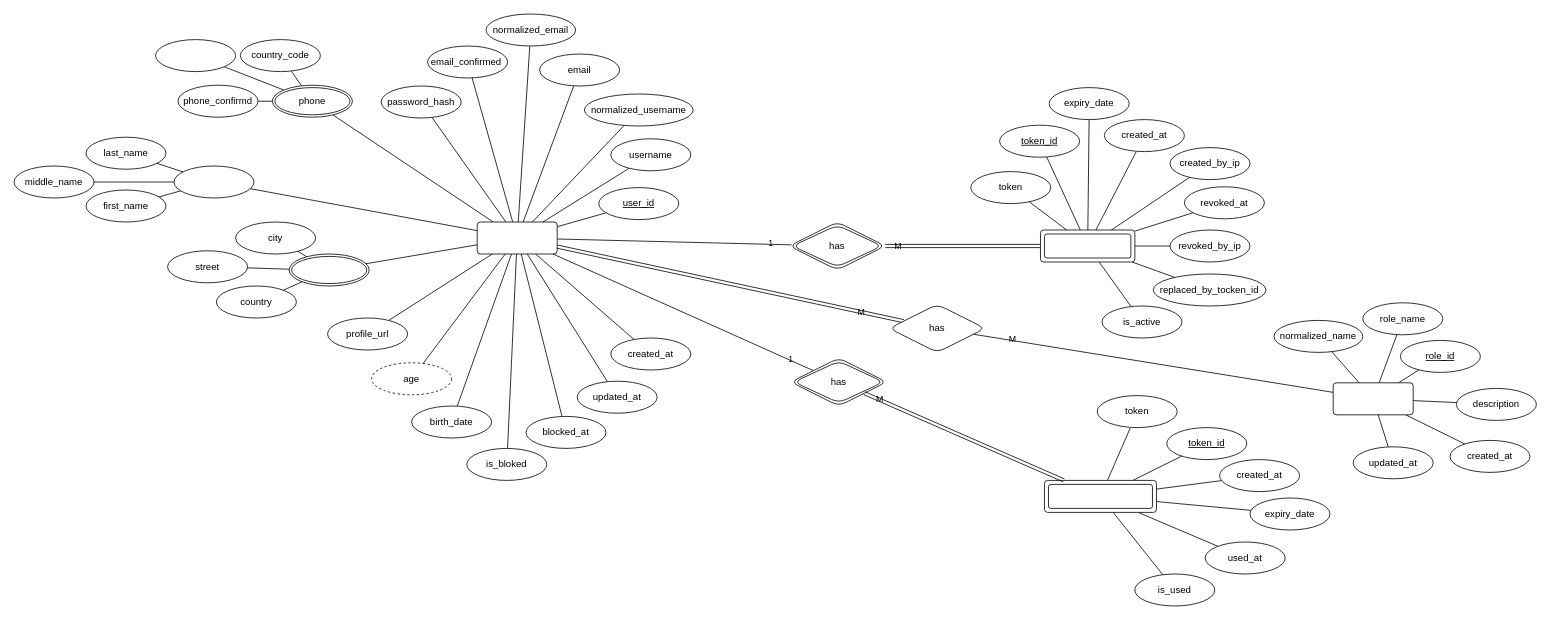
This 1550x620 diagram has some shape labels left out. Here are the shapes that lost their labels. From the top down, the centre of each, then its label:
At point 195,55: "phone_number".
At point 213,181: "name".
At point 516,237: "User".
At point 1087,245: "Refresh_token".
At point 328,269: "address".
At point 1372,398: "Role".
At point 1100,496: "Password_reset_token".
